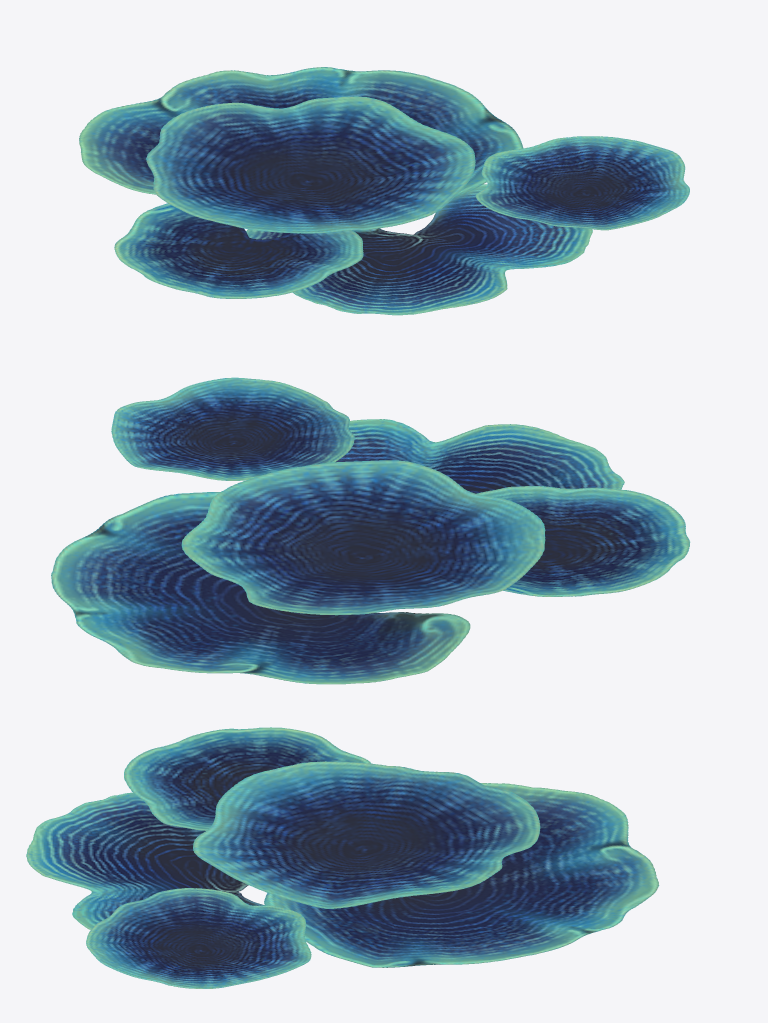
The picture shows the model from 3 angles, top to bottom: view 1: azimuth 30°, elevation 25°; view 2: azimuth 150°, elevation 25°; view 3: azimuth 270°, elevation 25°; orthographic projection. The views are drawn at different scales.
Visible parts, largest first — view 1: sc08; view 2: sc08; view 3: sc08.
Boxes of the visible parts, x1,y1,x2,y2 form: sc08: [79, 67, 689, 315]; sc08: [51, 377, 690, 684]; sc08: [26, 727, 659, 988].
Size of the model in its own units: 258 by 21.37 by 279.
